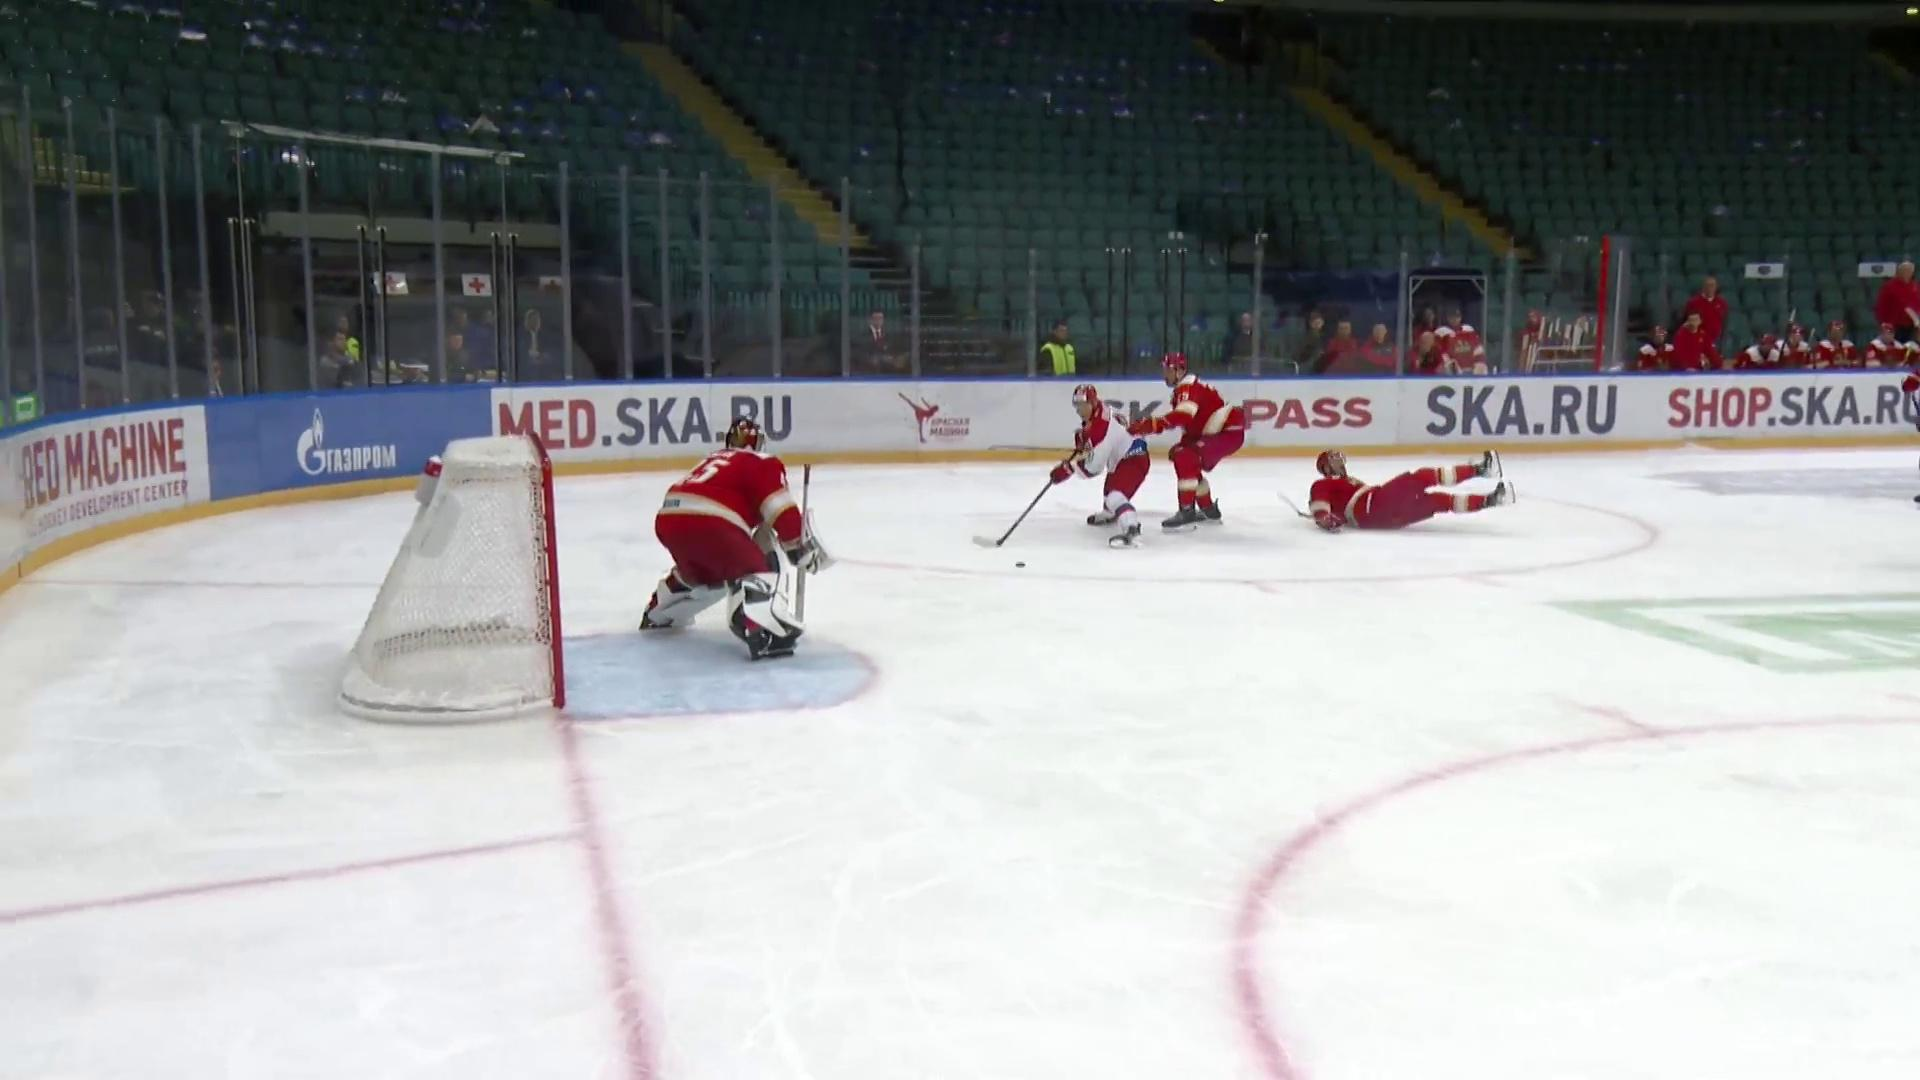ball: (1013, 559, 1029, 570)
